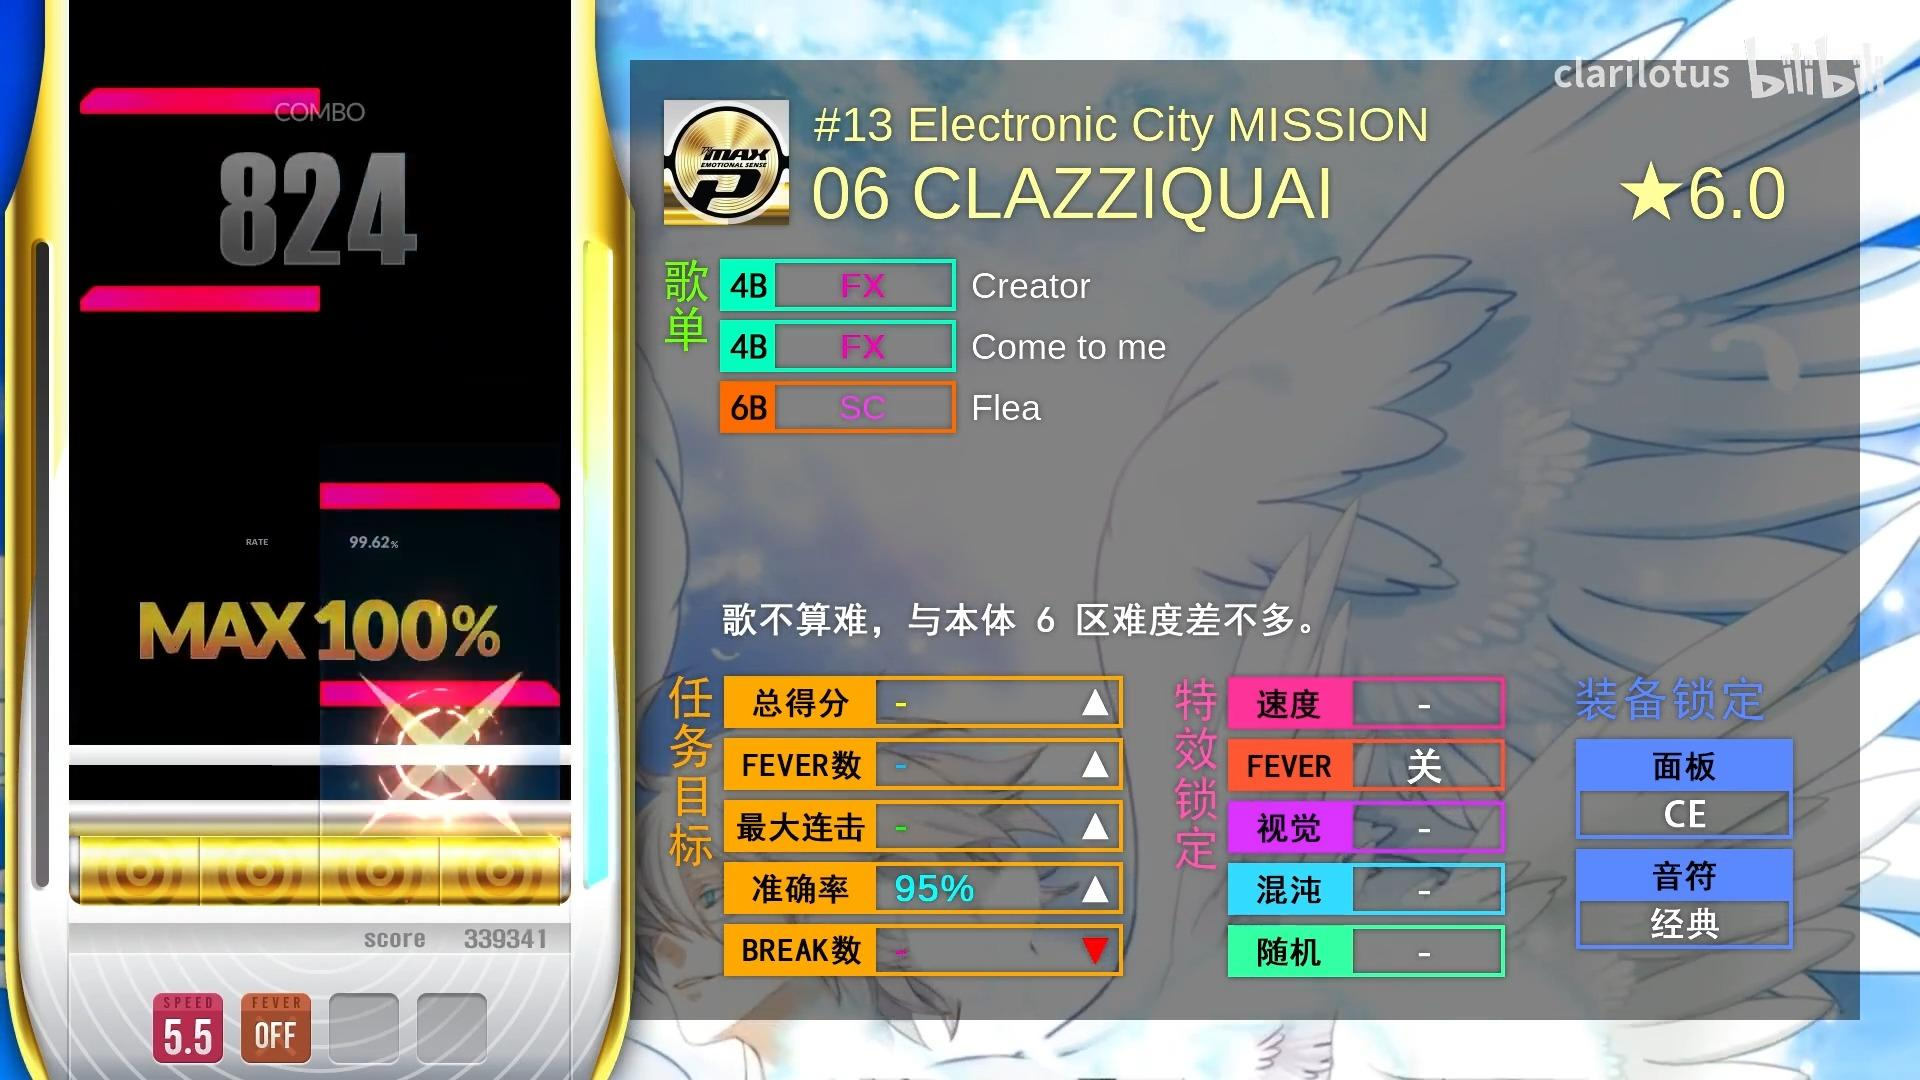xnote: (80, 87, 320, 113), (80, 285, 319, 311), (320, 483, 559, 509), (320, 680, 560, 705)
